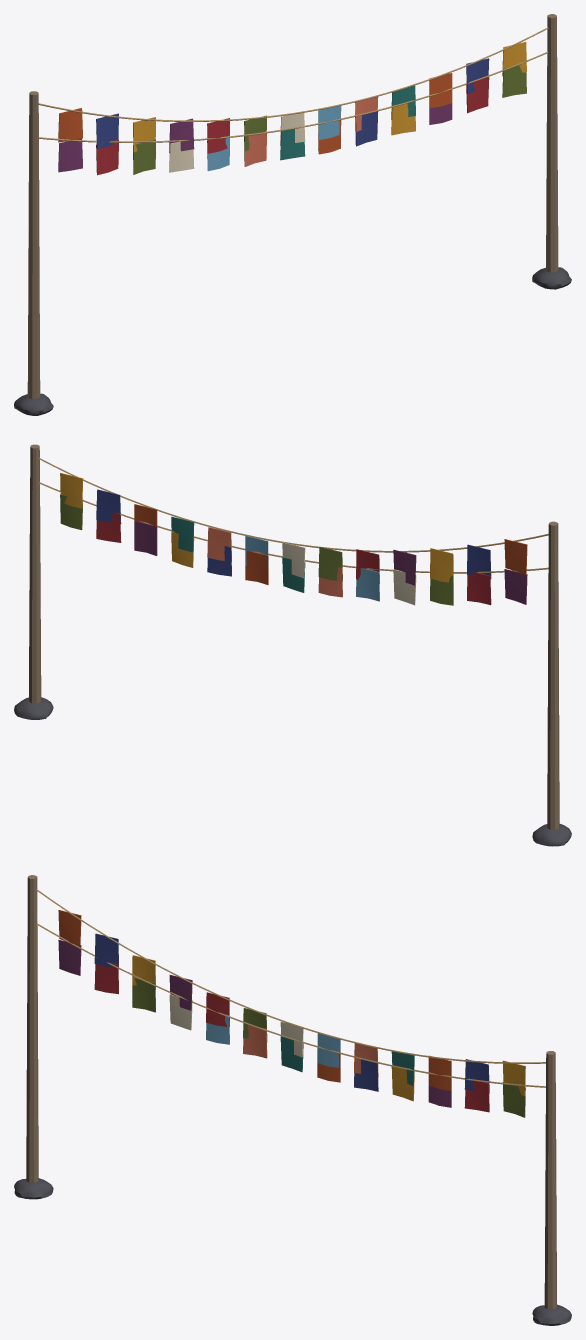
Rendered from deco_prayer_flags.fbx.
The picture shows the model from 3 angles, top to bottom: view 1: azimuth 30°, elevation 25°; view 2: azimuth 150°, elevation 25°; view 3: azimuth 330°, elevation 25°; orthographic projection.
Visible parts, largest first — view 1: PrayerFlags_String2, PrayerFlags_String1, PrayerFlags_Poles; view 2: PrayerFlags_String1, PrayerFlags_String2, PrayerFlags_Poles; view 3: PrayerFlags_String2, PrayerFlags_String1, PrayerFlags_Poles.
Boxes of the visible parts, <box> form: PrayerFlags_String2: <box>39,51,548,175</box>; PrayerFlags_String1: <box>38,27,548,153</box>; PrayerFlags_Poles: <box>14,14,571,415</box>; PrayerFlags_String1: <box>38,458,548,585</box>; PrayerFlags_String2: <box>39,482,548,605</box>; PrayerFlags_Poles: <box>14,444,571,846</box>; PrayerFlags_String2: <box>36,923,545,1117</box>; PrayerFlags_String1: <box>36,889,545,1096</box>; PrayerFlags_Poles: <box>14,875,571,1325</box>.
Size of the model in its own units: 585 by 320 by 36.89.
